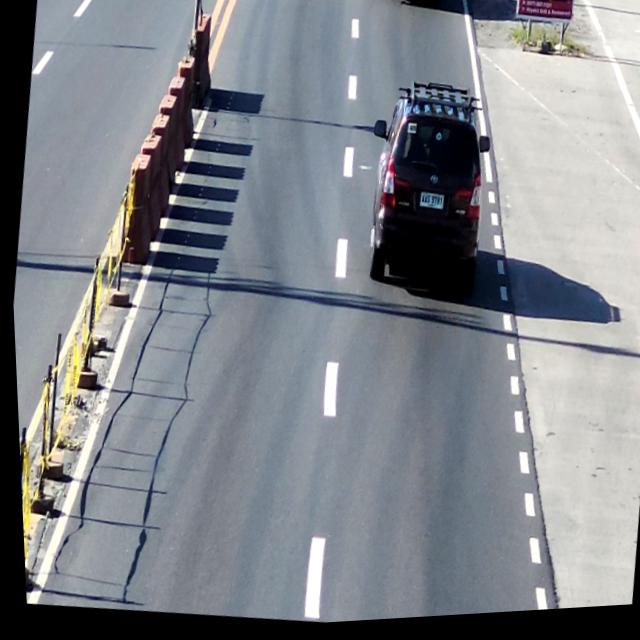Car: (355, 86, 501, 312)
License-Plate: (411, 190, 451, 222)
